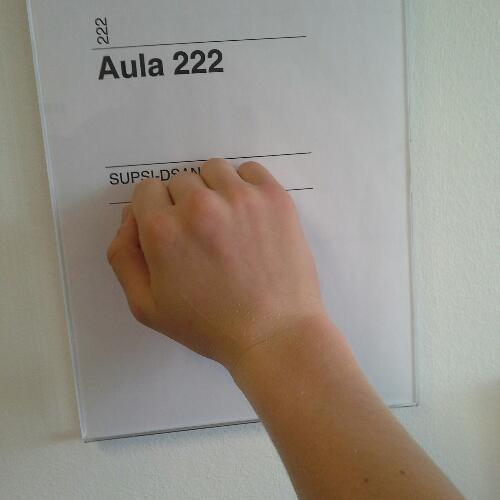rock: (99, 152, 322, 355)
